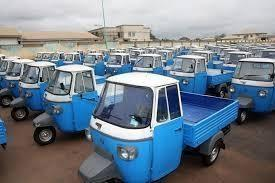keke: (83, 74, 195, 182), (231, 56, 273, 124)
